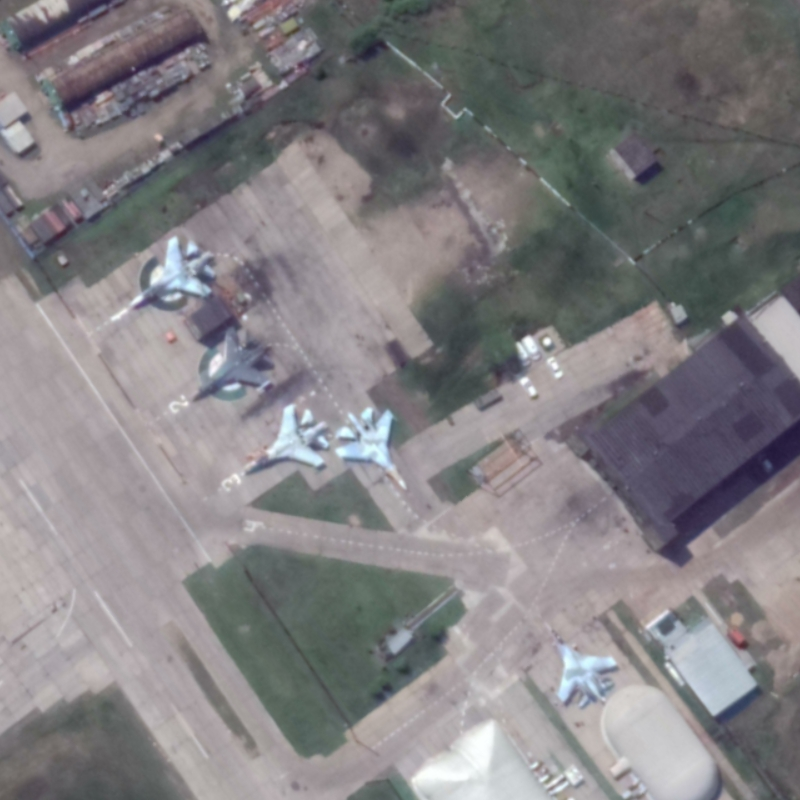A1: (184, 322, 275, 405), (125, 233, 219, 313), (541, 618, 619, 711), (239, 401, 334, 477), (330, 405, 411, 494)
